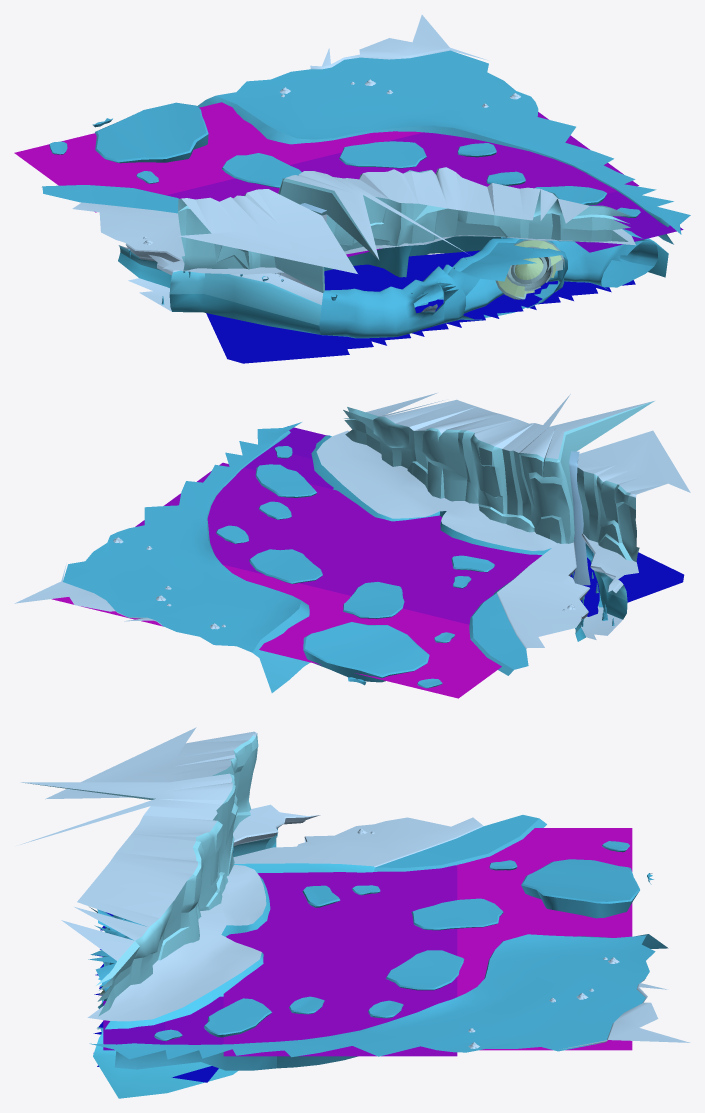
The model's file is glacier.glb.
3 views of the same model, one above another, from view 1: azimuth 30°, elevation 25°; view 2: azimuth 150°, elevation 25°; view 3: azimuth 270°, elevation 25° (orthographic). The views are drawn at different scales.
Parts seen in each view (by area): view 1: VuMaterialAsset_Natural_Ice, VuMaterialAsset_Natural_Snow, VuMaterialAsset_Natural_MountainB_Depth, Water_1, Water_8, Water_5, VuMaterialAsset_Natural_SnowToIce, VuMaterialAsset_Natural_IceToSnow, VuMaterialAsset_Natural_IceToSnow_Depth, VuMaterialAsset_Natural_Ice_Depth, Water_7, VuMaterialAsset_Building_Alien_Alien_Lights (+2 smaller); view 2: VuMaterialAsset_Natural_Ice, VuMaterialAsset_Natural_Snow, Water_5, VuMaterialAsset_Natural_MountainB_Depth, Water_1, VuMaterialAsset_Natural_Ice_Depth, Water_8, VuMaterialAsset_Natural_IceToSnow_Depth, VuMaterialAsset_Water_Waterfall_belowWater, Water_6, Water_7, VuMaterialAsset_Natural_IceToSnow; view 3: VuMaterialAsset_Natural_Ice, VuMaterialAsset_Natural_Snow, Water_5, Water_1, VuMaterialAsset_Natural_MountainB_Depth, VuMaterialAsset_Natural_IceToSnow_Depth, VuMaterialAsset_Natural_Ice_Depth, Water_6, Water_7.
Boxes of the visible parts, x1=… form: VuMaterialAsset_Natural_Ice: x1=42, y1=50, x2=690, y2=338; VuMaterialAsset_Natural_Snow: x1=72, y1=15, x2=635, y2=311; VuMaterialAsset_Natural_MountainB_Depth: x1=178, y1=168, x2=630, y2=292; Water_1: x1=14, y1=102, x2=423, y2=212; Water_8: x1=206, y1=250, x2=635, y2=363; Water_5: x1=167, y1=112, x2=638, y2=256; VuMaterialAsset_Natural_SnowToIce: x1=119, y1=245, x2=321, y2=325; VuMaterialAsset_Natural_IceToSnow: x1=118, y1=252, x2=320, y2=334; VuMaterialAsset_Natural_IceToSnow_Depth: x1=324, y1=229, x2=668, y2=277; VuMaterialAsset_Natural_Ice_Depth: x1=42, y1=95, x2=673, y2=244; Water_7: x1=575, y1=211, x2=683, y2=252; VuMaterialAsset_Building_Alien_Alien_Lights: x1=498, y1=240, x2=561, y2=297; VuMaterialAsset_Natural_Ice: x1=63, y1=422, x2=614, y2=688; VuMaterialAsset_Natural_Snow: x1=14, y1=393, x2=690, y2=648; Water_5: x1=135, y1=462, x2=541, y2=624; VuMaterialAsset_Natural_MountainB_Depth: x1=343, y1=401, x2=654, y2=562; Water_1: x1=51, y1=564, x2=501, y2=698; VuMaterialAsset_Natural_Ice_Depth: x1=206, y1=431, x2=513, y2=692; Water_8: x1=570, y1=552, x2=684, y2=616; VuMaterialAsset_Natural_IceToSnow_Depth: x1=311, y1=435, x2=551, y2=593; VuMaterialAsset_Water_Waterfall_belowWater: x1=569, y1=451, x2=590, y2=585; Water_6: x1=244, y1=448, x2=333, y2=489; Water_7: x1=270, y1=427, x2=329, y2=458; VuMaterialAsset_Natural_IceToSnow: x1=575, y1=559, x2=627, y2=641; VuMaterialAsset_Natural_Ice: x1=88, y1=815, x2=655, y2=1059; VuMaterialAsset_Natural_Snow: x1=20, y1=727, x2=690, y2=1049; Water_5: x1=223, y1=865, x2=457, y2=1056; Water_1: x1=457, y1=828, x2=632, y2=1050; VuMaterialAsset_Natural_MountainB_Depth: x1=25, y1=733, x2=258, y2=1016; VuMaterialAsset_Natural_IceToSnow_Depth: x1=93, y1=863, x2=374, y2=1098; VuMaterialAsset_Natural_Ice_Depth: x1=114, y1=818, x2=668, y2=1070; Water_6: x1=165, y1=996, x2=223, y2=1044; Water_7: x1=103, y1=1001, x2=165, y2=1050.
Bounding box in the file's own units: 164 × 48.02 × 185.
